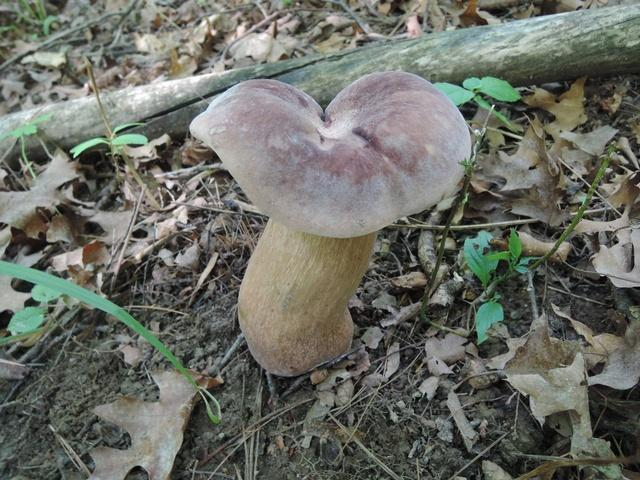poisonous_mushroom: (187, 68, 473, 377)
